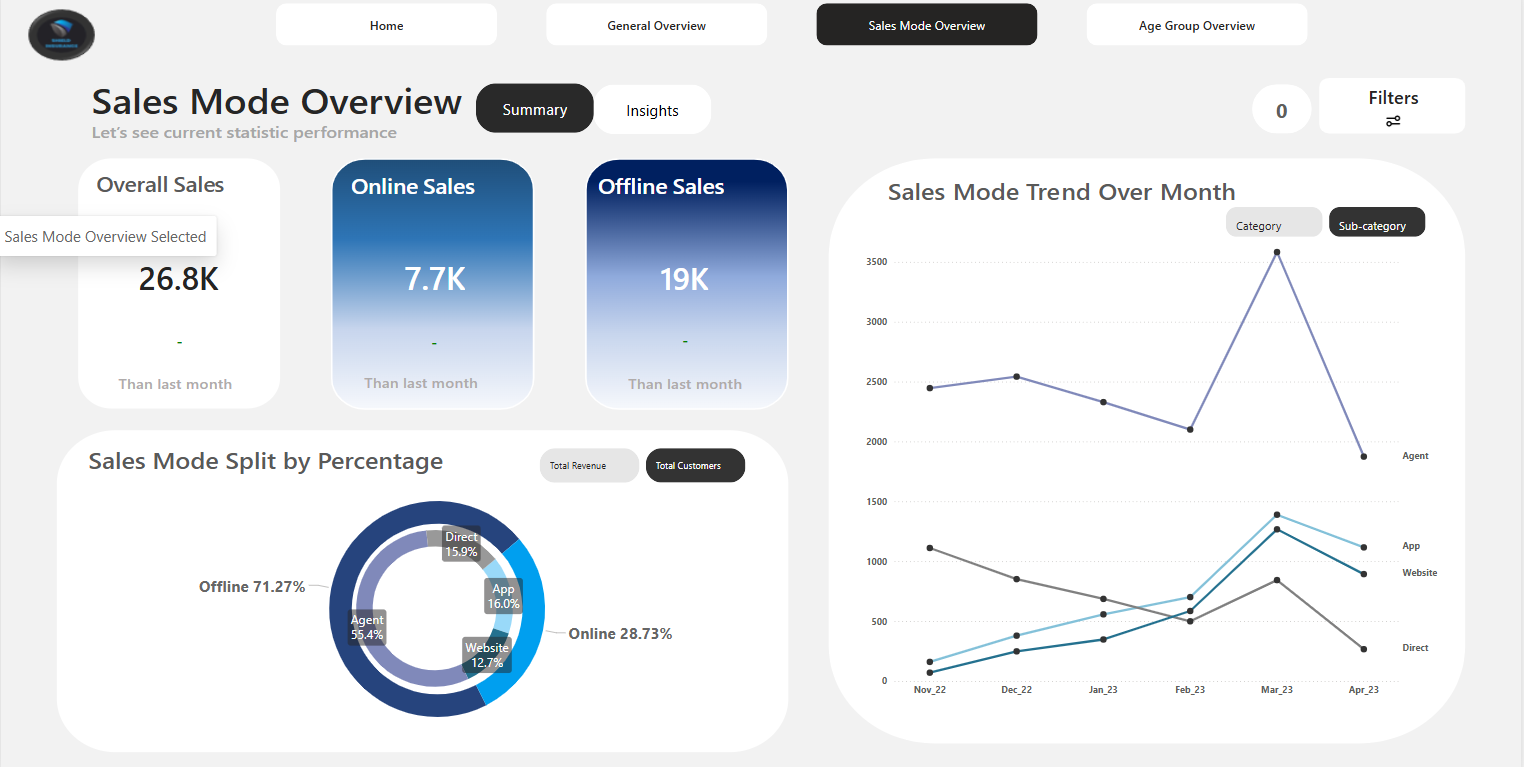

The dashboard page shown, as its layout file describes it:
{"tool":"powerbi","page":{"name":"Sales Mode Overview","canvas":[1980,1020],"ordinal":4},"visuals":[{"type":"advancedSlicerVisual","fields":{"Values":["Parameter 4.Parameter"]},"box":[1591.3,274.5,270,49.1],"z":0},{"type":"donutChart","fields":{"Y":["KPI.Total Customers"],"Category":["fact_premiums.sales_mode_1"]},"box":[125,618.2,886,370.5],"z":1000},{"type":"cardVisual","fields":{"Data":["KPI.Total Sales"]},"box":[104.9,299.1,254.4,133.9],"z":2000},{"type":"card","fields":{"Values":["KPI.LABEL Total Customers"]},"box":[105.7,420.8,254,70.4],"z":3000},{"type":"lineChart","fields":{"Series":["fact_premiums.sales_mode.2"],"Category":["dim_date.mmm_yy"],"Y":["KPI.Total Sales"]},"box":[1122.6,321.4,754.3,607],"z":4000},{"type":"donutChart","fields":{"Y":["KPI.Total Customers"],"Category":["fact_premiums.sales_mode.2"]},"box":[357.8,660,413.4,287.4],"z":5000},{"type":"advancedSlicerVisual","fields":{"Values":["Parameter.Parameter"]},"box":[696.3,589.2,279,55.8],"z":6000},{"type":"image","title":"Filters","box":[1727.3,120.5,172.7,63.6],"z":7000},{"type":"cardVisual","fields":{"Data":["KPI.Offline Sales"]},"box":[763.8,276.2,254,181.7],"z":8000},{"type":"cardVisual","fields":{"Data":["KPI.Online Sales"]},"box":[437.4,276.7,254.4,180.8],"z":9000},{"type":"card","fields":{"Values":["KPI.LABEL Online Sales"]},"box":[437.5,422.7,254,68.6],"z":10000},{"type":"card","fields":{"Values":["KPI.LABEL Offline Sales"]},"box":[756.4,420.8,268.8,68.6],"z":11000},{"type":"pageNavigator","box":[358.1,13.9,1347.1,55.6],"z":12000},{"type":"actionButton","box":[1629.5,120.5,77.3,63.6],"z":14000},{"type":"actionButton","box":[618.2,118.3,154,64.7],"z":15000},{"type":"actionButton","box":[772.2,120.5,154,64.7],"z":16000}]}

Visuals, with their boxes in screenshot pixels (x1, y1, x2, y2), scaled from the page's 1980x1020 canvas onto the 1524x767 screenshot:
advancedSlicerVisual - Parameter 4.Parameter: region(1225, 206, 1433, 243)
donutChart - KPI.Total Customers x fact_premiums.sales_mode_1: region(96, 465, 778, 743)
cardVisual - KPI.Total Sales: region(81, 225, 277, 326)
card - KPI.LABEL Total Customers: region(81, 316, 277, 369)
lineChart - fact_premiums.sales_mode.2 x dim_date.mmm_yy: region(864, 242, 1445, 698)
donutChart - KPI.Total Customers x fact_premiums.sales_mode.2: region(275, 496, 594, 712)
advancedSlicerVisual - Parameter.Parameter: region(536, 443, 751, 485)
"Filters" image: region(1329, 91, 1462, 138)
cardVisual - KPI.Offline Sales: region(588, 208, 783, 344)
cardVisual - KPI.Online Sales: region(337, 208, 532, 344)
card - KPI.LABEL Online Sales: region(337, 318, 532, 369)
card - KPI.LABEL Offline Sales: region(582, 316, 789, 368)
pageNavigator: region(276, 10, 1312, 52)
actionButton: region(1254, 91, 1314, 138)
actionButton: region(476, 89, 594, 138)
actionButton: region(594, 91, 713, 139)
